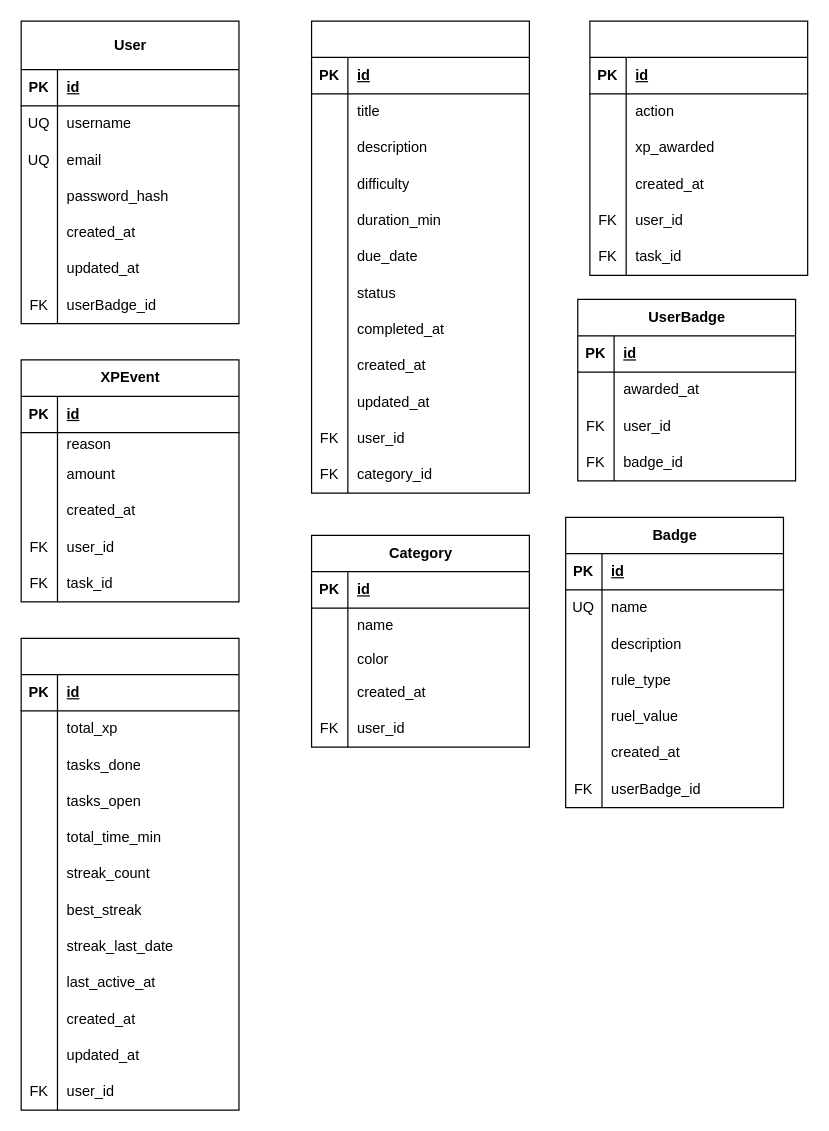
The diagram is 829 pixels wide and 1131 high, and some of its shapes have lost their labels. The shapes that lost their labels are listed below. From the top down, each one's box as (x1, y1, x2, y2) in pixels, then its label:
(589, 20, 808, 275): TaskLog
(310, 20, 529, 493): Task
(20, 637, 239, 1110): UserStats
